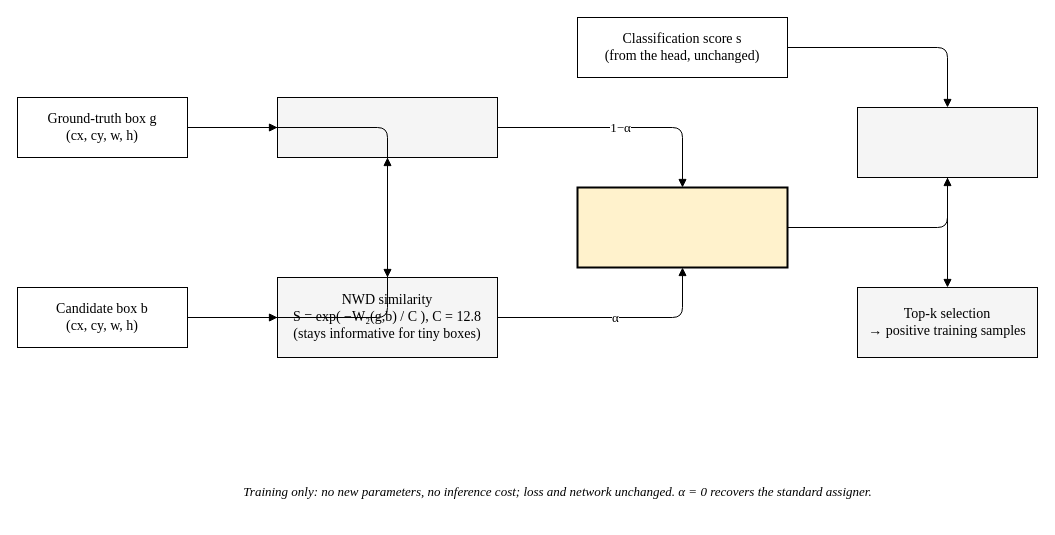
Some shapes in this 1055 by 535 pixel diagram are drawn without their labels. Here are the shapes that lost their labels. From the top down, the centre of each, then its label:
point (387, 127): CIoU(g, b) (collapses for boxes < 16 px)
point (947, 142): Alignment score t = s^p · u^q
point (682, 227): Blended overlap u = (1−α)·CIoU + α·S (the proposed change)
